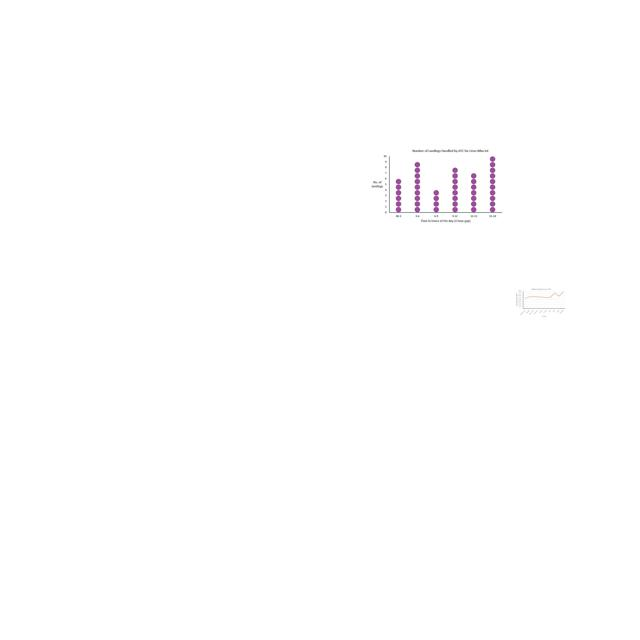Graph: (367, 146, 505, 226), (516, 288, 566, 317)
